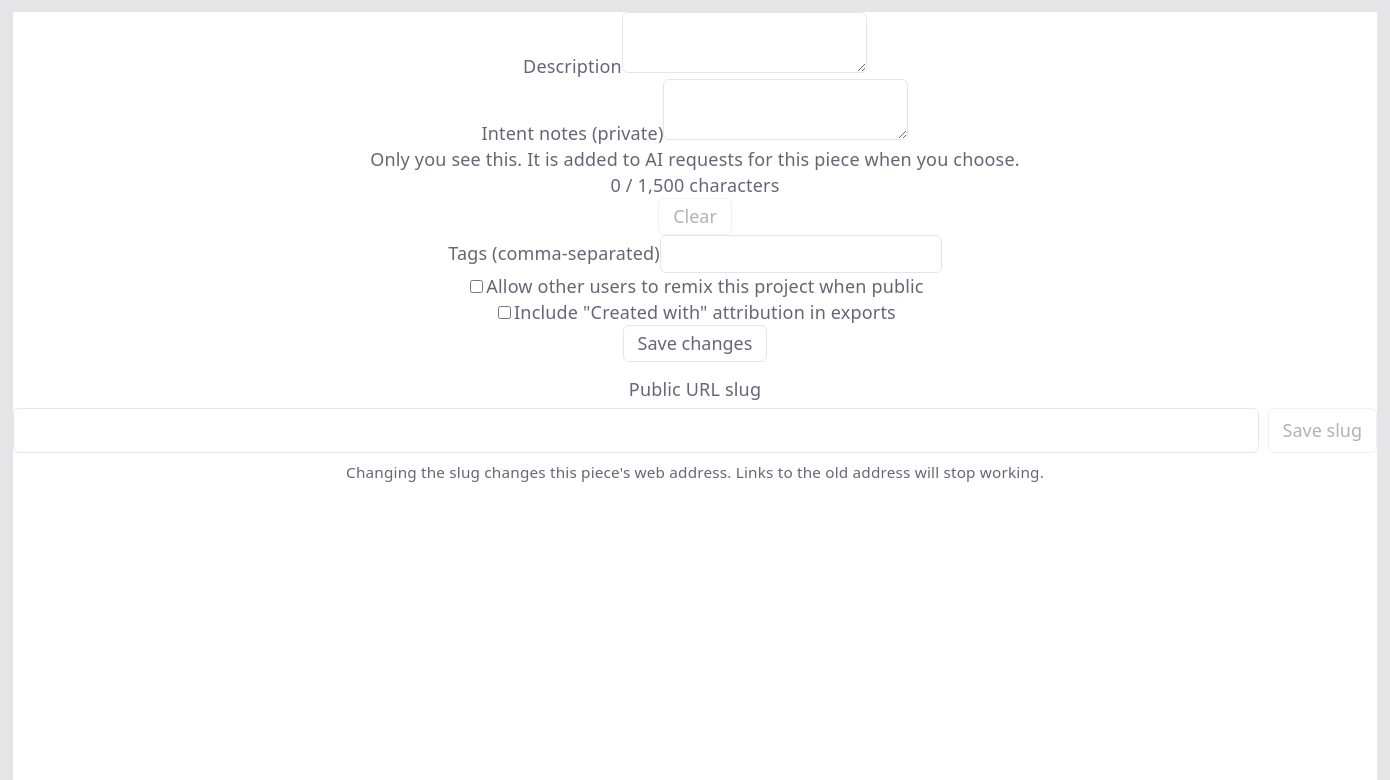
Test case: EditorDetailsPanel › surfaces server-side field errors accessibly
Click the button "Save changes" at [695, 344], box x1=623 y1=325 x2=767 y2=362
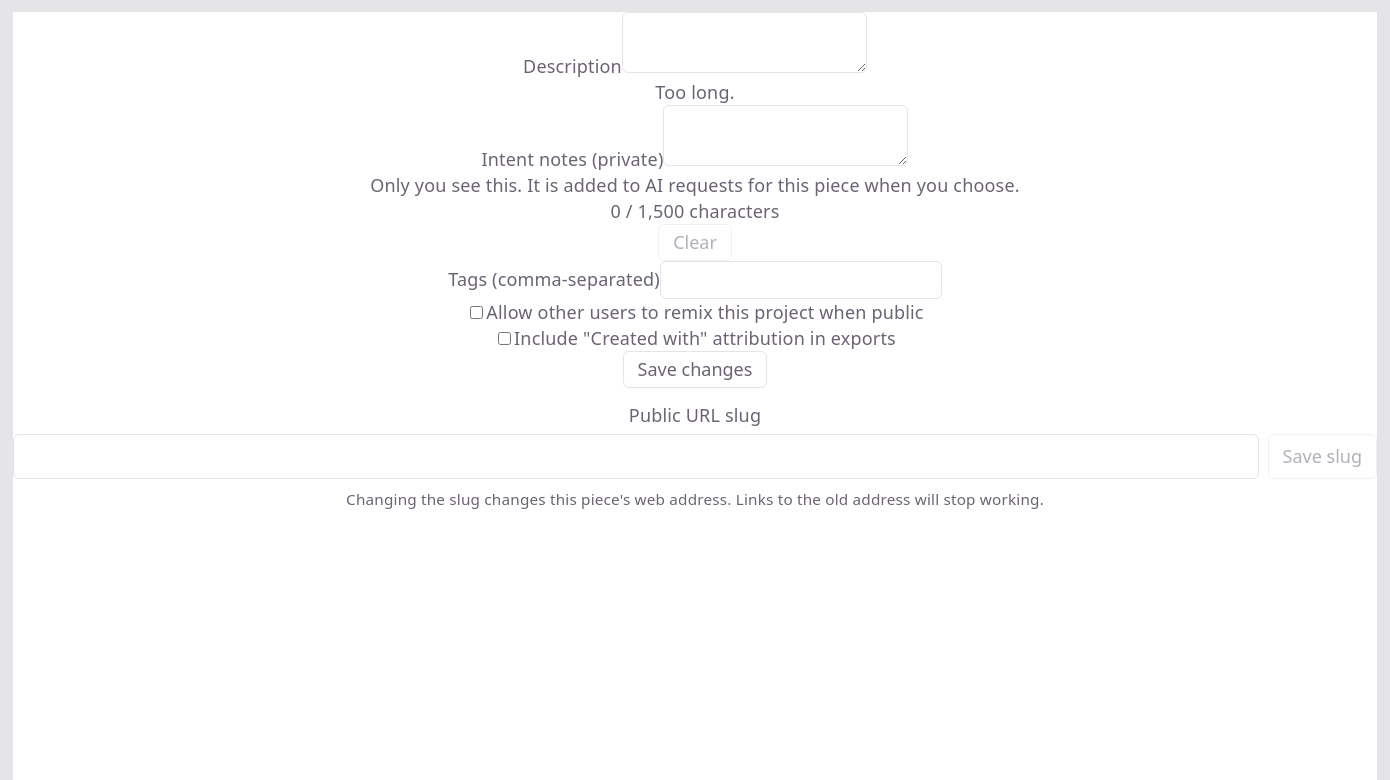
Now the message shows "Too long", box x1=655 y1=80 x2=735 y2=104
